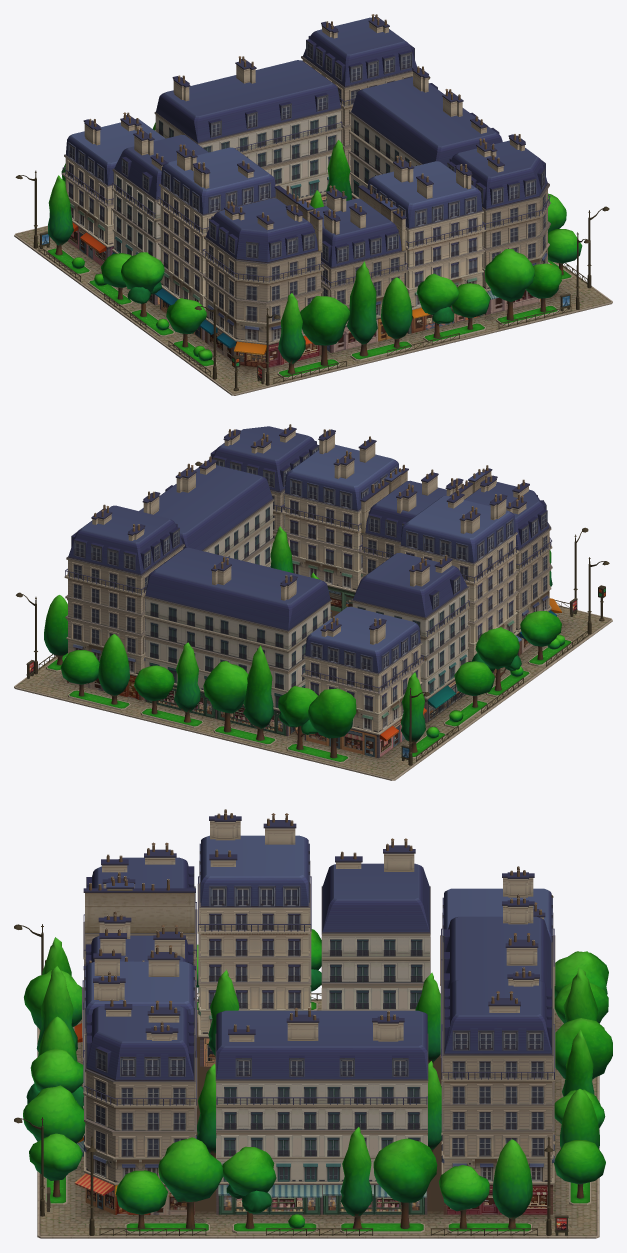
File: map_MK4.glb
3 renders of one model, top to bottom at view 1: azimuth 30°, elevation 25°; view 2: azimuth 150°, elevation 25°; view 3: azimuth 270°, elevation 25°, orthographic. The views are drawn at different scales.
Parts seen in each view (by area): view 1: Box108, tree, Object121, Object151; view 2: Box108, tree, Object121, Object151; view 3: Box108, tree, Object121, Object151.
Part boxes in pixels (box(x1,y1,x2,y2)): Box108: box(61, 14, 551, 354); tree: box(48, 122, 582, 373); Object121: box(14, 77, 612, 395); Object151: box(68, 194, 540, 368); Box108: box(64, 424, 561, 741); tree: box(44, 526, 565, 758); Object121: box(14, 461, 612, 780); Object151: box(67, 586, 533, 758); Box108: box(74, 809, 555, 1197); tree: box(23, 929, 612, 1229); Object121: box(14, 895, 599, 1238); Object151: box(85, 1037, 552, 1214).
Bounding box in the file's own units: 51.51 × 20.2 × 50.66.
Materials: 3 (3 with a texture image).
